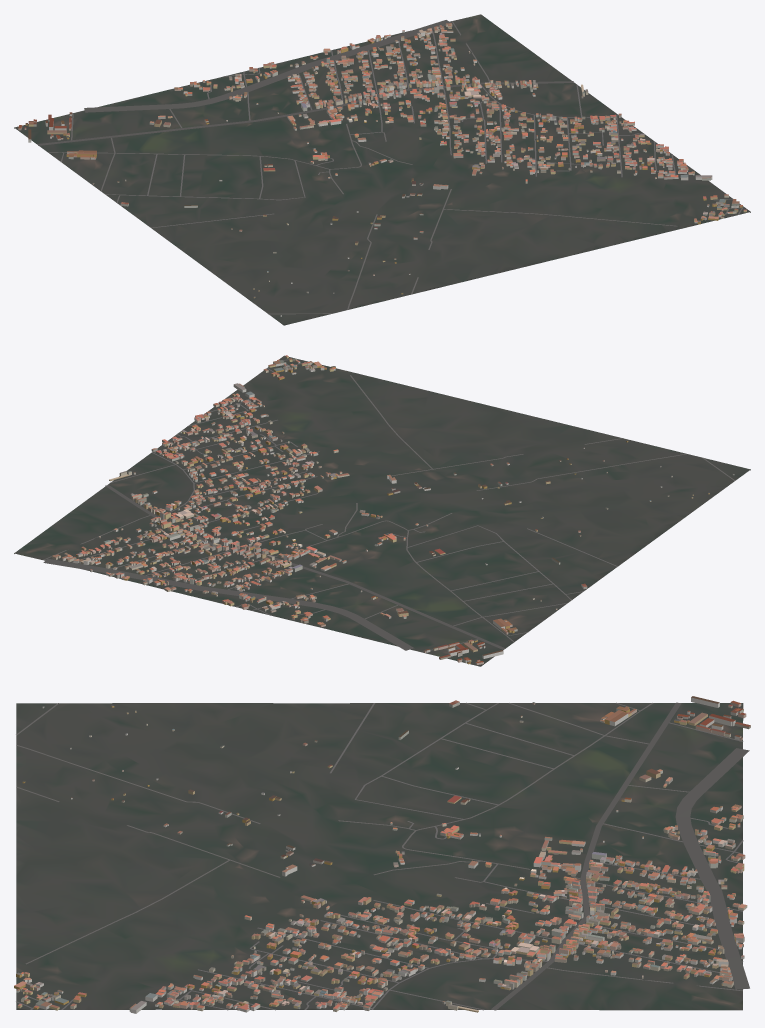
3 views of the same model, one above another, from view 1: azimuth 30°, elevation 25°; view 2: azimuth 150°, elevation 25°; view 3: azimuth 270°, elevation 25° (orthographic). The views are drawn at different scales.
Parts seen in each view (by area): view 1: ground, buildings, roads; view 2: ground, buildings, roads; view 3: ground, buildings, roads.
Part boxes in pixels (<box>): ground: <box>14,14,750,325</box>; buildings: <box>18,23,746,316</box>; roads: <box>37,20,745,314</box>; ground: <box>14,355,750,666</box>; buildings: <box>51,355,734,664</box>; roads: <box>43,358,735,652</box>; ground: <box>16,703,743,1010</box>; buildings: <box>14,696,750,1013</box>; roads: <box>16,702,749,1010</box>.
Bounding box in the file's own units: 1429 × 20.49 × 1422.
